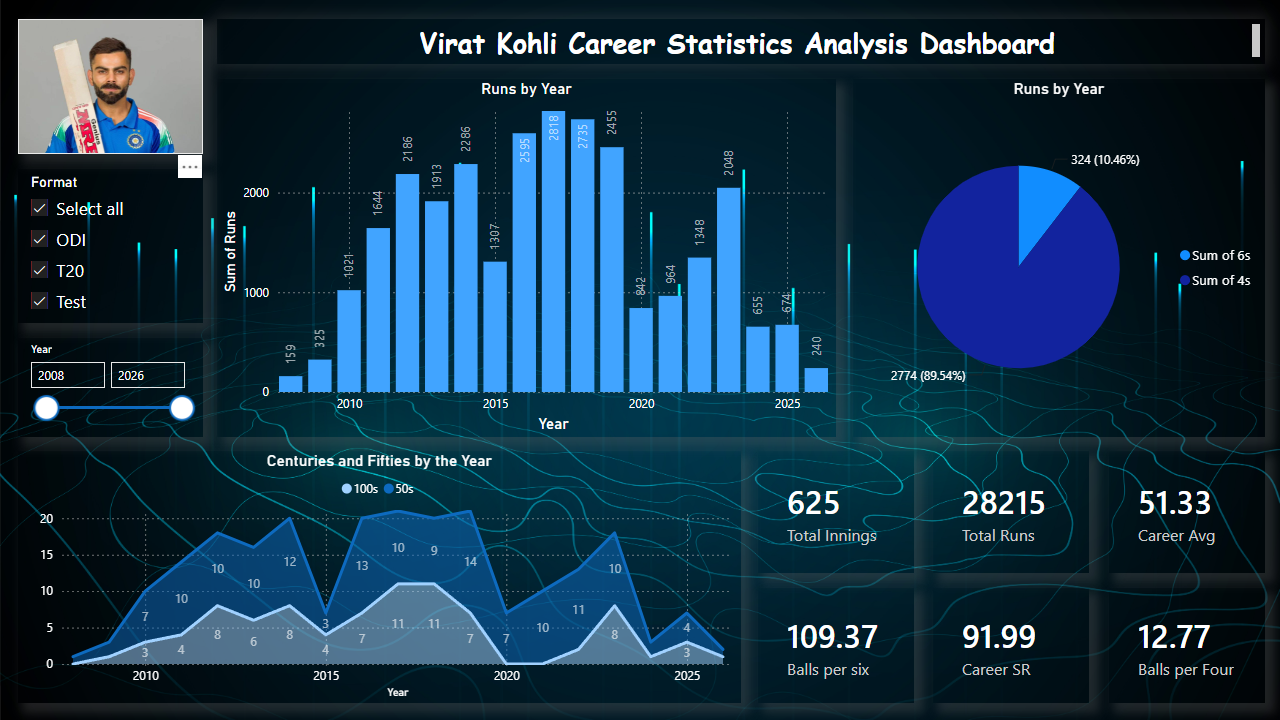

What the dashboard file says about the page in this screenshot:
{"tool":"powerbi","page":{"name":"Page 1","canvas":[1280,720],"ordinal":0},"visuals":[{"type":"textbox","box":[217,19,1048,45],"z":0},{"type":"cardVisual","fields":{"Data":["Sum(Sheet1.Innings)"]},"box":[758,451,156,122],"z":1000},{"type":"cardVisual","fields":{"Data":["Sum(Sheet1.Runs)"]},"box":[933,451,156,122],"z":2000},{"type":"cardVisual","fields":{"Data":["Avg(Sheet1.SR)"]},"box":[933,588,156,115],"z":3000},{"type":"cardVisual","fields":{"Data":["Avg(Sheet1.Avg)"]},"box":[1109,451,156,122],"z":4000},{"type":"image","box":[18,19,185,135],"z":5000},{"type":"slicer","fields":{"Values":["Sheet1.Format"]},"box":[18,169,185,154],"z":6000},{"type":"slicer","fields":{"Values":["Sheet1.Year"]},"box":[18,338,185,99],"z":7000},{"type":"clusteredColumnChart","title":"Runs by Year","fields":{"Category":["Sheet1.Year"],"Y":["Sum(Sheet1.Runs)"]},"box":[217,79,619,358],"z":8000},{"type":"pieChart","title":"Runs by Year","fields":{"Y":["Sum(Sheet1.6s)","Sum(Sheet1.4s)"]},"box":[853,79,412,358],"z":9000},{"type":"cardVisual","fields":{"Data":["Sheet1.Balls per six"]},"box":[758,588,156,115],"z":10000},{"type":"stackedAreaChart","title":"Centuries and Fifties by the Year","fields":{"Category":["Sheet1.Year"],"Y":["Sum(Sheet1.100)","Sum(Sheet1.50)"]},"box":[18,451,723,252],"z":11000},{"type":"cardVisual","fields":{"Data":["Sheet1.Balls per Four"]},"box":[1109,588,156,115],"z":12000}]}

Visuals, with their boxes in screenshot pixels (x1, y1, x2, y2), scaled from the page's 1280x720 canvas onto the 1280x720 screenshot:
textbox: [x1=217, y1=19, x2=1265, y2=64]
cardVisual - Sum(Sheet1.Innings): [x1=758, y1=451, x2=914, y2=573]
cardVisual - Sum(Sheet1.Runs): [x1=933, y1=451, x2=1089, y2=573]
cardVisual - Avg(Sheet1.SR): [x1=933, y1=588, x2=1089, y2=703]
cardVisual - Avg(Sheet1.Avg): [x1=1109, y1=451, x2=1265, y2=573]
image: [x1=18, y1=19, x2=203, y2=154]
slicer - Sheet1.Format: [x1=18, y1=169, x2=203, y2=323]
slicer - Sheet1.Year: [x1=18, y1=338, x2=203, y2=437]
"Runs by Year" clusteredColumnChart: [x1=217, y1=79, x2=836, y2=437]
"Runs by Year" pieChart: [x1=853, y1=79, x2=1265, y2=437]
cardVisual - Sheet1.Balls per six: [x1=758, y1=588, x2=914, y2=703]
"Centuries and Fifties by the Year" stackedAreaChart: [x1=18, y1=451, x2=741, y2=703]
cardVisual - Sheet1.Balls per Four: [x1=1109, y1=588, x2=1265, y2=703]
